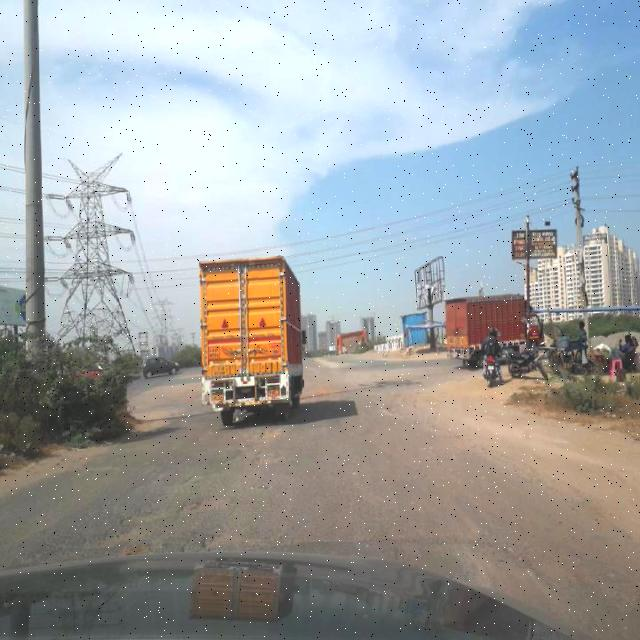D40: (64, 506, 173, 550), (196, 519, 276, 551), (180, 452, 234, 488), (177, 491, 232, 513), (240, 451, 295, 473), (228, 424, 282, 446)
